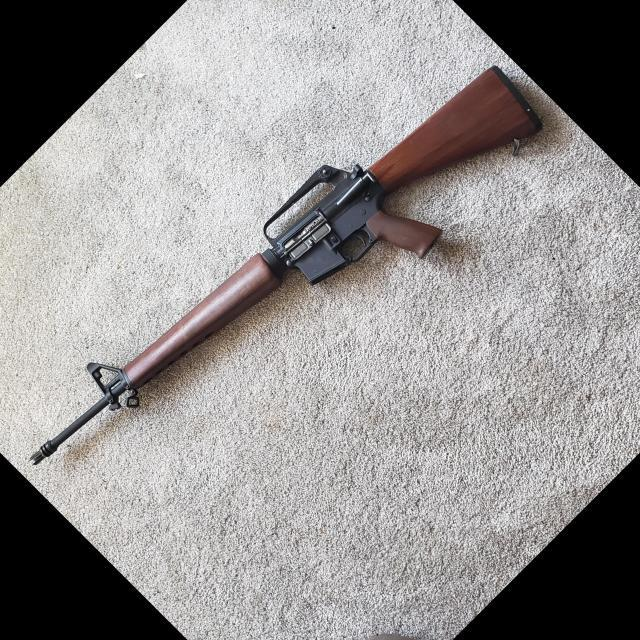weapon: (28, 66, 548, 468)
